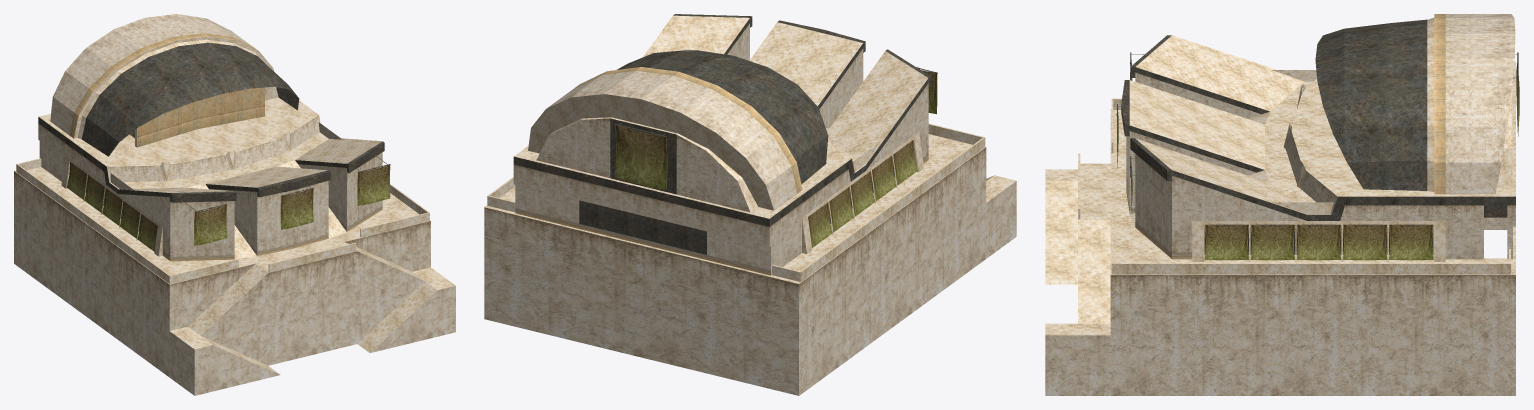
File: ply_tato_theater_s01_r0_exterior_mesh_l1.fbx
3 views of the same model, side by side, from view 1: azimuth 30°, elevation 25°; view 2: azimuth 150°, elevation 25°; view 3: azimuth 270°, elevation 25° (orthographic). The views are drawn at different scales.
Parts seen in each view (by area): view 1: mesh_node; view 2: mesh_node; view 3: mesh_node.
Part boxes in pixels (x1,y1,x2,y2): mesh_node: (14,14,455,395); mesh_node: (484,14,1016,395); mesh_node: (1045,14,1519,395).
Bounding box in the file's own units: 25.6 × 20.05 × 30.91.
